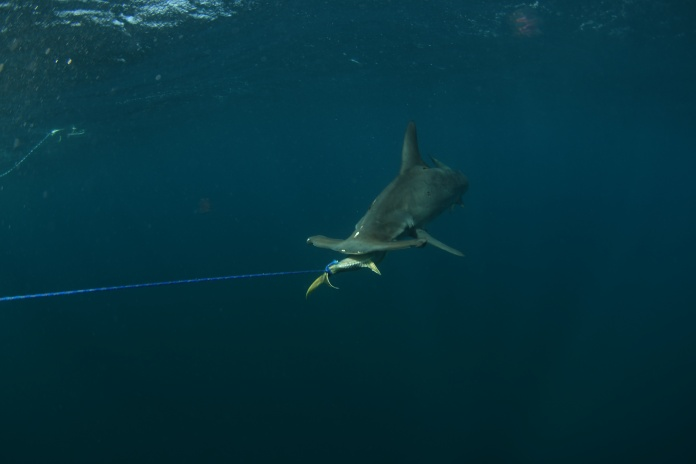Hammer: (279, 106, 523, 273)
